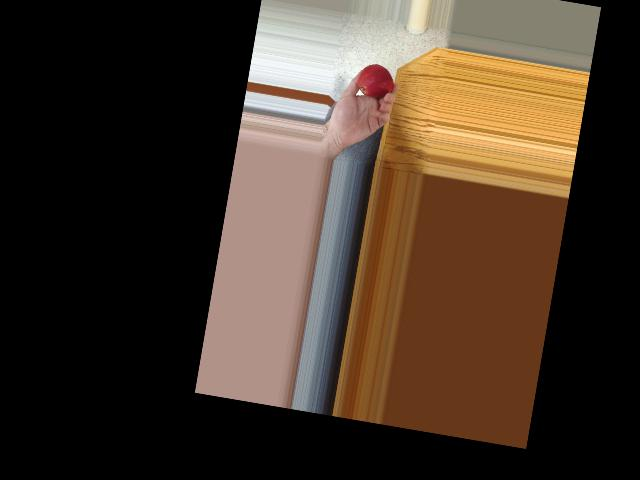apple: (355, 60, 395, 100)
